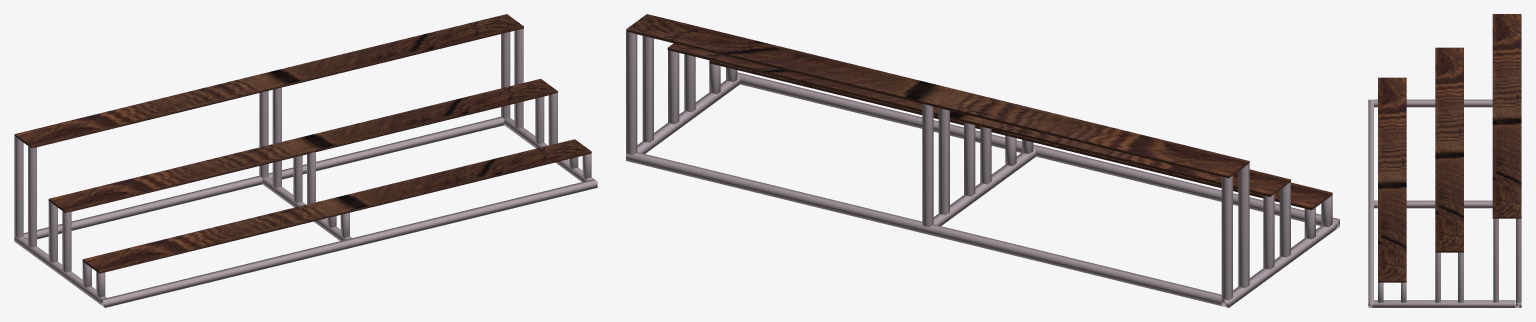
File: Stands.obj
3 renders of one model, left to right at view 1: azimuth 30°, elevation 25°; view 2: azimuth 150°, elevation 25°; view 3: azimuth 270°, elevation 25°, orthographic. The views are drawn at different scales.
Visible parts, largest first — view 1: Cube.021, Cube.027, Cube.010, Cube, Cube.014, Cube.025, Cube.013, Cube.026, Cube.019, Cube.023, Cube.020, Cube.022 (+8 smaller); view 2: Cube.027, Cube.014, Cube, Cube.010, Cube.021, Cube.025, Cube.022, Cube.020, Cube.026, Cube.013, Cube.023, Cube.019 (+8 smaller); view 3: Cube.027, Cube.010, Cube.021, Cube, Cube.001, Cube.013, Cube.006, Cube.022, Cube.019, Cube.008, Cube.004, Cube.003 (+1 smaller).
Boxes of the visible parts, left/top/right/bottom form: Cube.021: left=82, top=139, right=591, bottom=273; Cube.027: left=14, top=14, right=523, bottom=148; Cube.010: left=48, top=78, right=557, bottom=212; Cube: left=101, top=179, right=597, bottom=307; Cube.014: left=23, top=116, right=504, bottom=239; Cube.025: left=14, top=136, right=23, bottom=237; Cube.013: left=14, top=235, right=106, bottom=304; Cube.026: left=28, top=146, right=36, bottom=247; Cube.019: left=514, top=28, right=523, bottom=128; Cube.023: left=272, top=87, right=281, bottom=187; Cube.020: left=259, top=91, right=268, bottom=178; Cube.022: left=501, top=32, right=510, bottom=118; Cube.027: left=626, top=14, right=1249, bottom=178; Cube.014: left=626, top=152, right=1221, bottom=305; Cube: left=737, top=72, right=1339, bottom=229; Cube.010: left=667, top=43, right=1290, bottom=196; Cube.021: left=709, top=60, right=1332, bottom=210; Cube.025: left=1221, top=175, right=1232, bottom=300; Cube.022: left=626, top=31, right=637, bottom=154; Cube.020: left=922, top=103, right=933, bottom=227; Cube.026: left=1238, top=163, right=1249, bottom=288; Cube.013: left=1221, top=221, right=1335, bottom=307; Cube.023: left=938, top=108, right=949, bottom=215; Cube.019: left=642, top=36, right=653, bottom=142; Cube.027: left=1492, top=14, right=1521, bottom=218; Cube.010: left=1435, top=47, right=1463, bottom=252; Cube.021: left=1378, top=77, right=1406, bottom=282; Cube: left=1368, top=99, right=1373, bottom=307; Cube.001: left=1374, top=300, right=1515, bottom=307; Cube.013: left=1374, top=99, right=1492, bottom=107; Cube.006: left=1374, top=200, right=1492, bottom=208; Cube.022: left=1516, top=216, right=1521, bottom=302; Cube.019: left=1493, top=218, right=1498, bottom=302; Cube.008: left=1458, top=252, right=1463, bottom=302; Cube.004: left=1435, top=252, right=1440, bottom=302; Cube.003: left=1378, top=282, right=1383, bottom=302.
Size of the model in its own units: 5.03 by 1.05 by 1.6.
2 materials, 2 textured.
